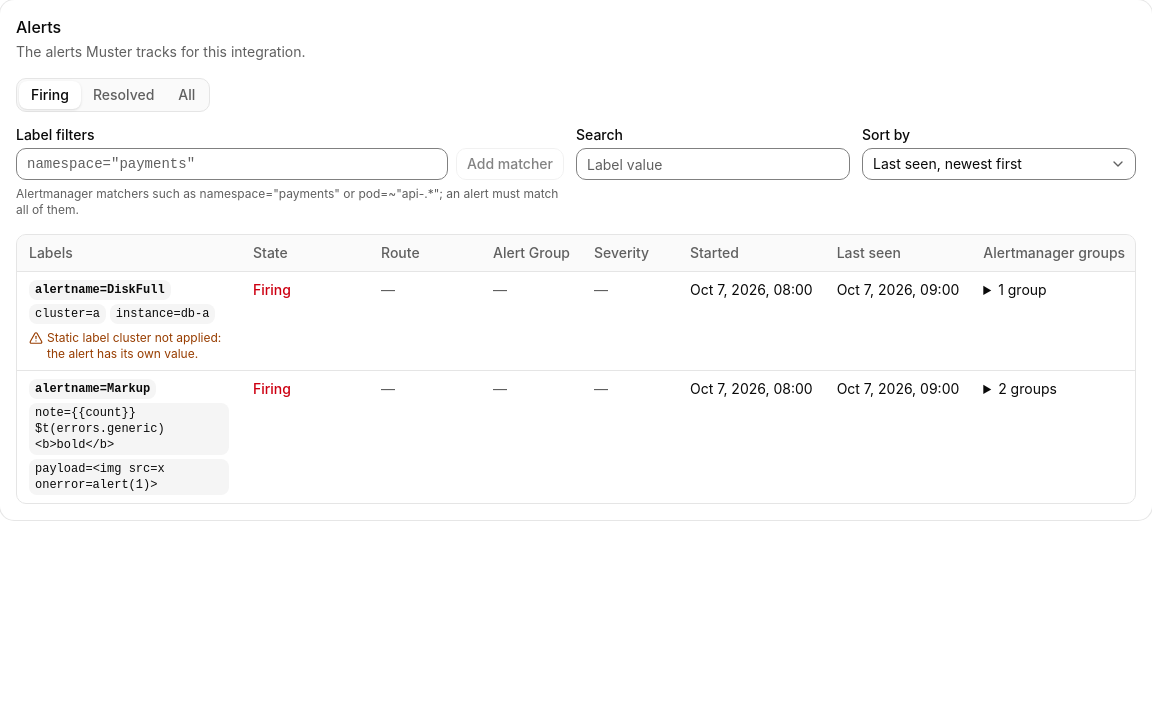
IntegrationAlerts › applies a Matcher the server takes and keeps the rows when it refuses one
The image size is (1152, 720).
Step 1. Type "instance=\"db-a\"" into the field labelled "Label filters" → coordinates (232, 164), box [16,148,448,180]
Then press Enter
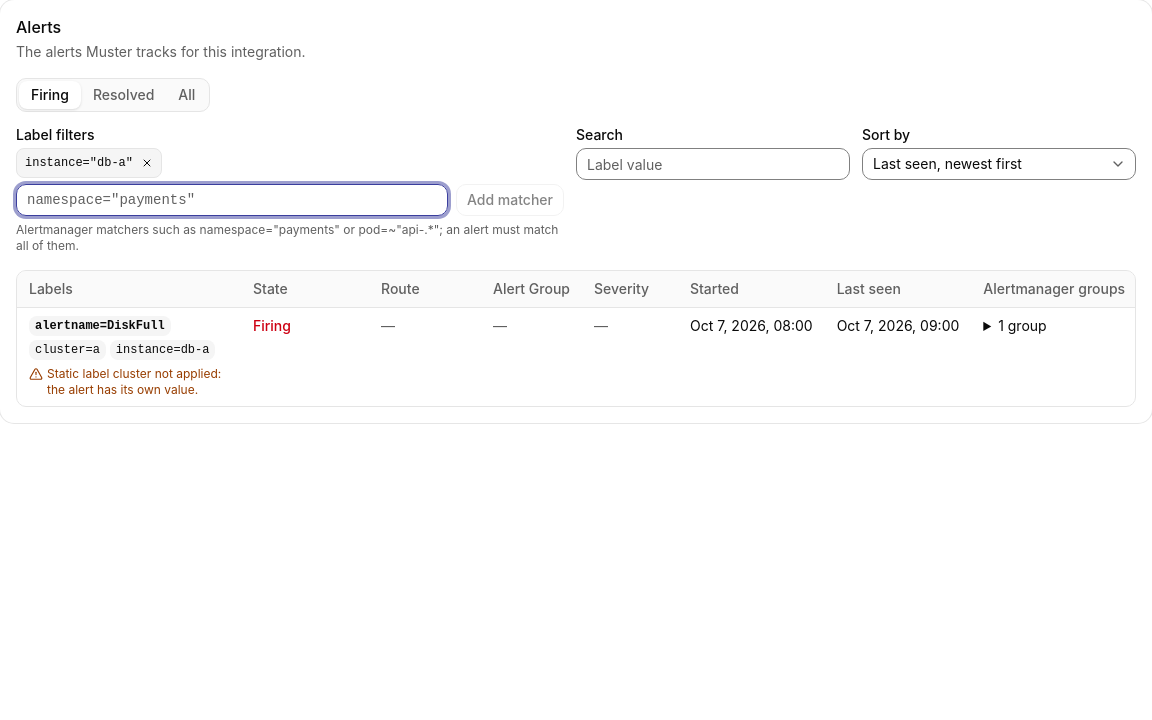
Check: the row that starts with "alertname" is shown, box [17,308,1136,406]
Check: the list item with test id "matcher-chip" reads "instance=\"db-a\"", box [25,156,133,170]
Step 2. Type "pod=~\"[\"" into the field labelled "Label filters" → coordinates (232, 200), box [16,184,448,216]
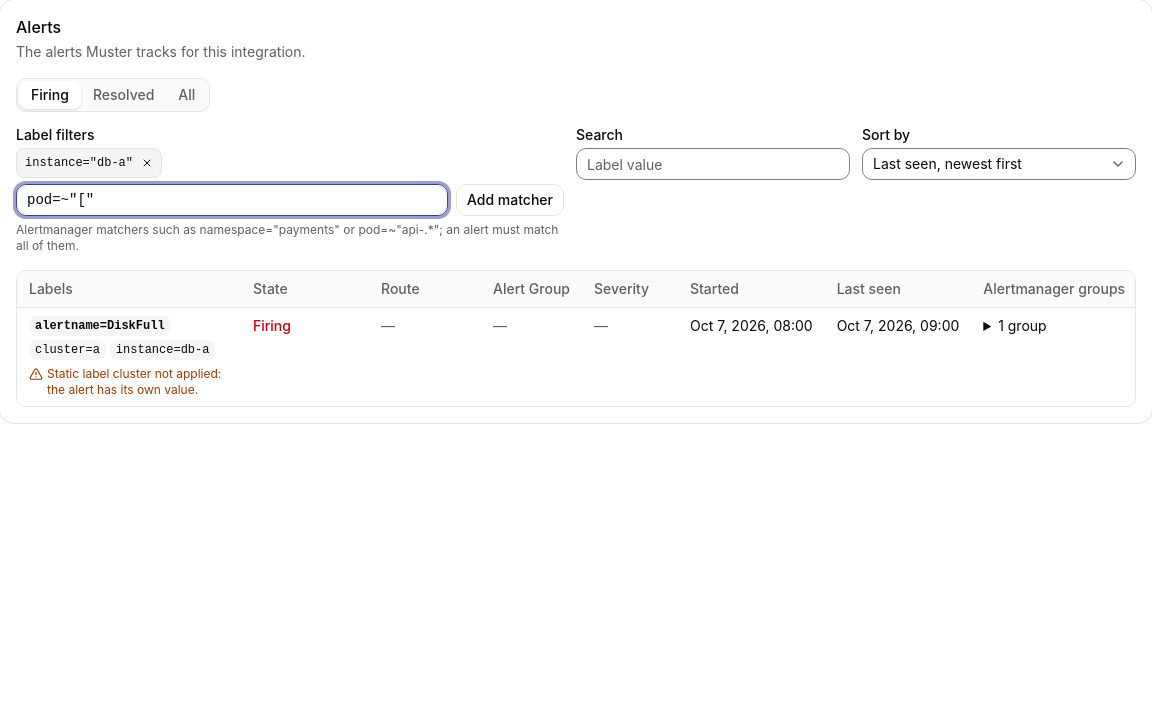
Step 3. Press Enter
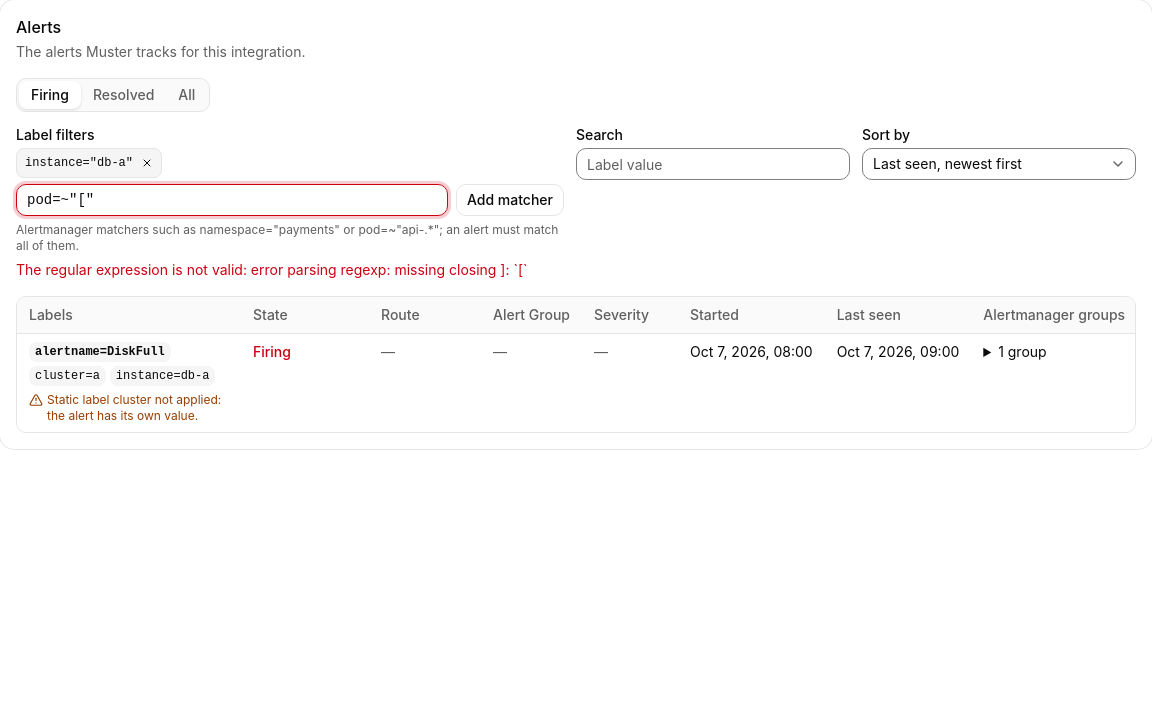
Check: the row that starts with "alertname" is shown, box [17,334,1136,432]
Check: the message with test id "matcher-error" shows "The regular expression is not valid: error parsing regexp: missing closing ]: `[`", box [16,261,528,278]
